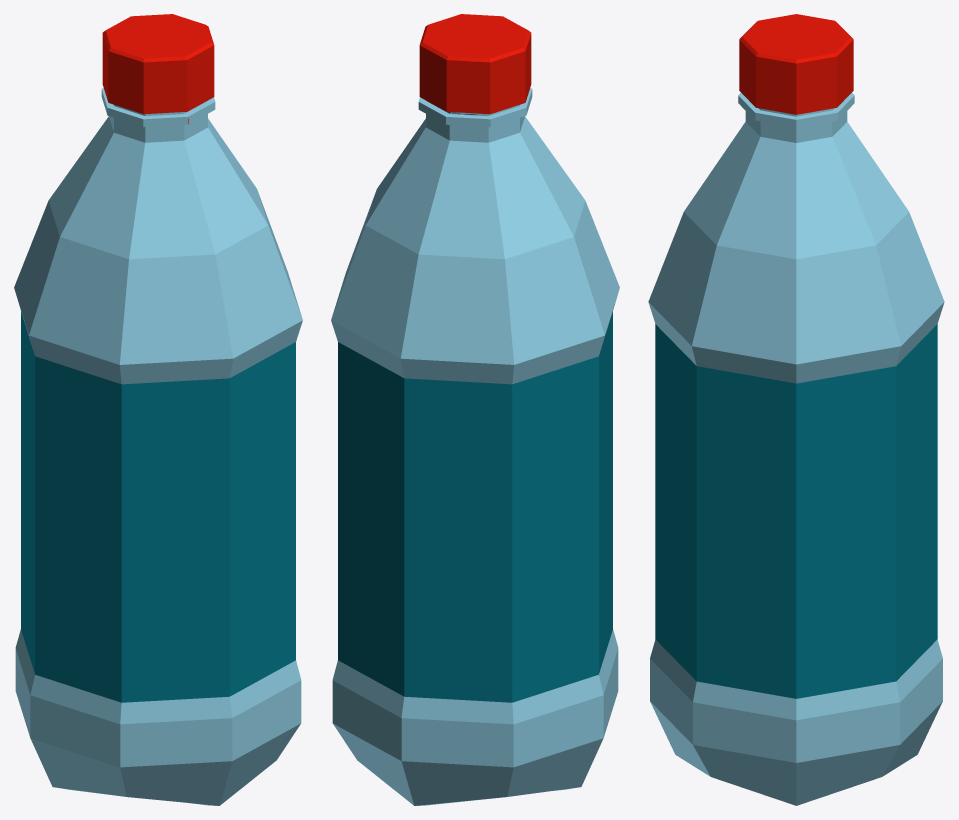
The model's file is Water_Bottle_01.obj.
3 views of the same model, side by side, from view 1: azimuth 30°, elevation 25°; view 2: azimuth 150°, elevation 25°; view 3: azimuth 270°, elevation 25° (orthographic).
Visible parts, largest first — view 1: Circle.002; view 2: Circle.002; view 3: Circle.002.
Boxes of the visible parts, x1,y1,x2,y2 form: Circle.002: (14, 14, 302, 805); Circle.002: (331, 14, 619, 805); Circle.002: (648, 14, 944, 805).
Size of the model in its own units: 0.0824 by 0.2224 by 0.0824.
